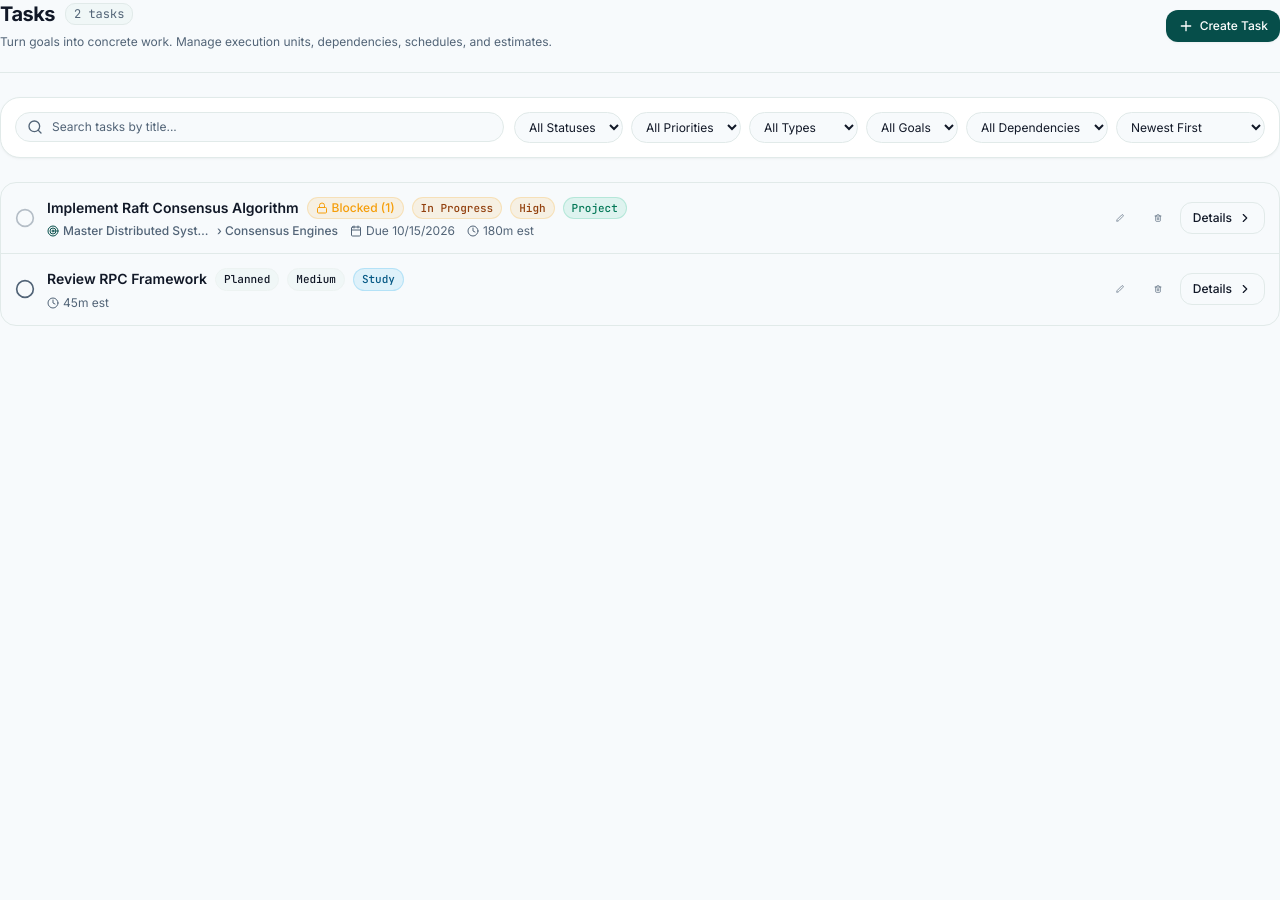
Test: TasksPage Component › opens CreateTaskModal when Create Task button is clicked
This screenshot has width=1280, height=900.
Click the button "Create Task": click(1223, 26) [1166,10,1279,42]
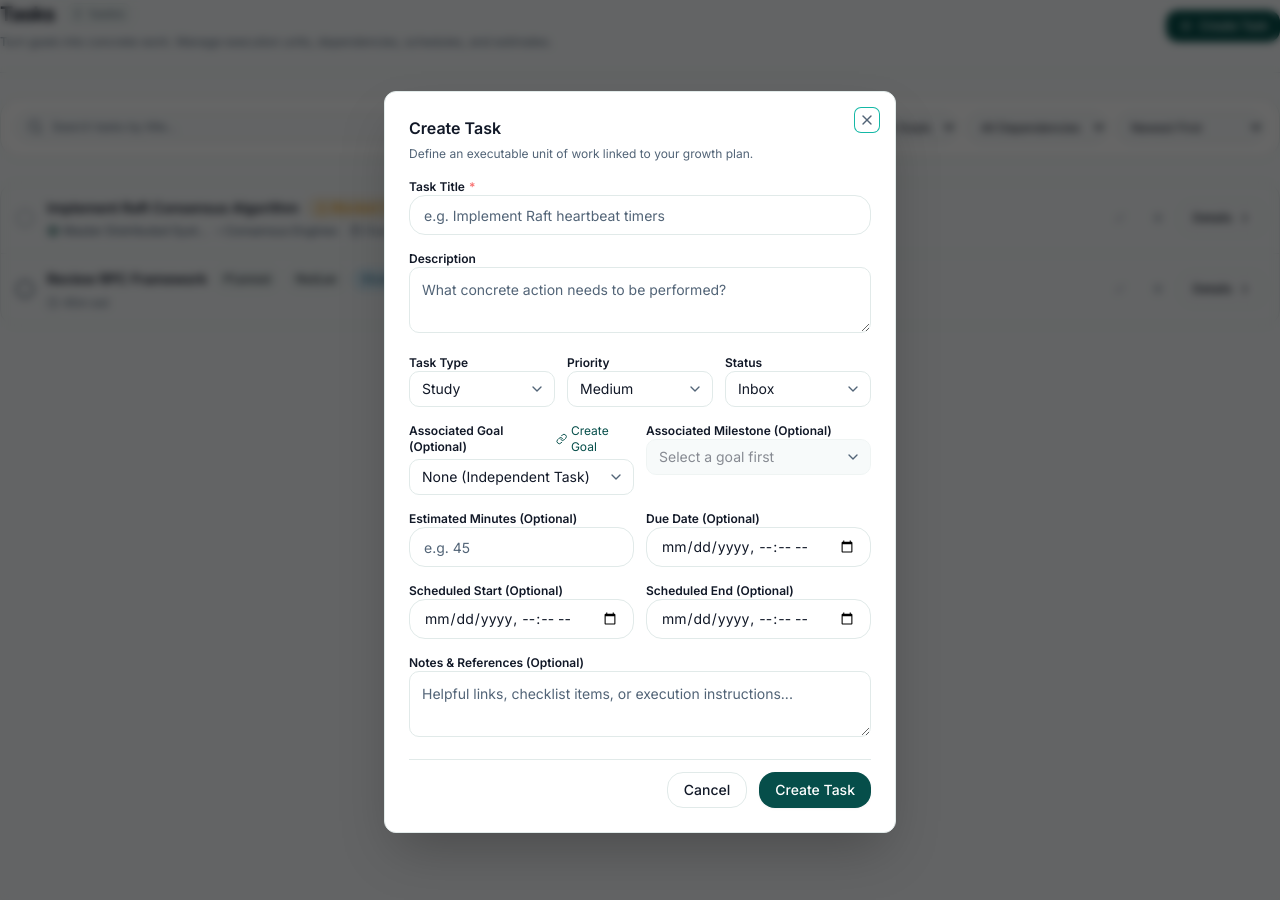
Now the text "Define an executable unit of work linked to your growth plan." is shown, box [409,146,753,161]
